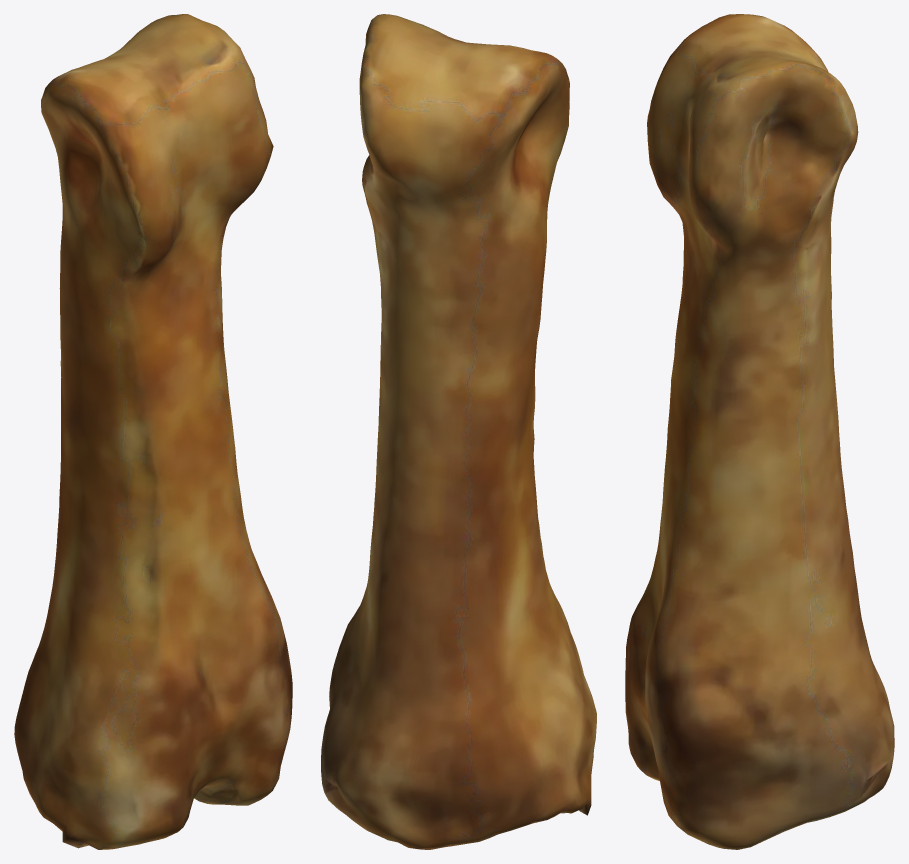
File: phalanx.glb
3 views of the same model, side by side, from view 1: azimuth 30°, elevation 25°; view 2: azimuth 150°, elevation 25°; view 3: azimuth 270°, elevation 25° (orthographic). The views are drawn at different scales.
Parts seen in each view (by area): view 1: Alpaca Posterior PHF; view 2: Alpaca Posterior PHF; view 3: Alpaca Posterior PHF.
Boxes of the visible parts, x1=… form: Alpaca Posterior PHF: x1=14, y1=14, x2=292, y2=849; Alpaca Posterior PHF: x1=321, y1=14, x2=596, y2=849; Alpaca Posterior PHF: x1=625, y1=14, x2=894, y2=849.
Bounding box in the file's own units: 0.0198 × 0.062 × 0.0196.
1 material, 1 textured.
